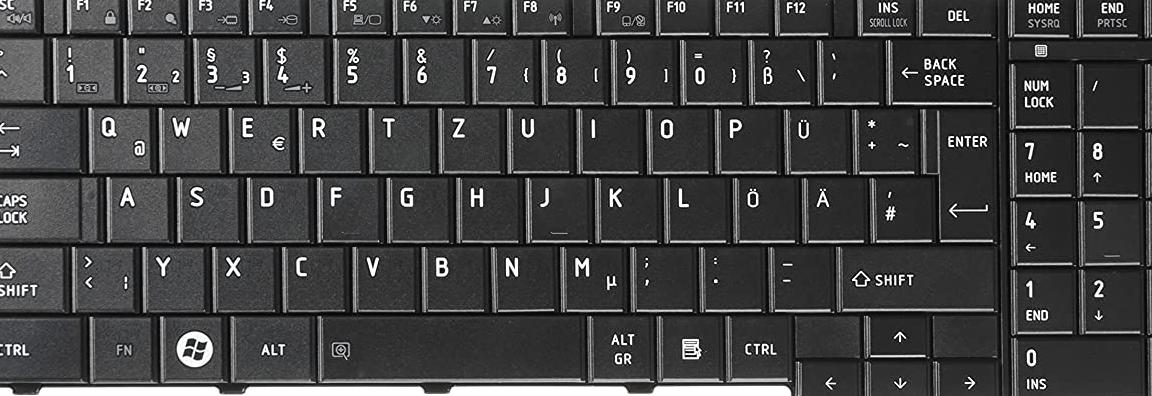0: (678, 32, 743, 102)
1: (49, 33, 115, 103)
2: (120, 33, 186, 104)
3: (190, 33, 256, 103)
4: (260, 34, 325, 104)
5: (330, 34, 395, 102)
6: (399, 32, 464, 102)
7: (470, 32, 535, 102)
8: (539, 33, 604, 103)
9: (609, 32, 674, 103)
a: (102, 171, 168, 241)
accent: (816, 32, 879, 100)
ae: (799, 169, 864, 240)
alt-left: (226, 309, 312, 380)
altgr-right: (585, 308, 654, 379)
b: (416, 239, 485, 310)
c: (277, 240, 345, 310)
caret: (1, 32, 42, 100)
comma: (628, 239, 692, 308)
d: (242, 170, 308, 240)
del: (885, 32, 995, 102)
e: (223, 101, 291, 173)
enter: (922, 107, 1000, 240)
f: (313, 170, 378, 240)
g: (381, 169, 446, 240)
h: (452, 170, 517, 240)
hash: (867, 170, 931, 239)
i: (573, 101, 638, 170)
j: (523, 170, 587, 240)
k: (592, 169, 656, 240)
keyboard: (1, 1, 1152, 396)
l: (662, 170, 725, 240)
less: (67, 240, 133, 310)
m: (556, 239, 623, 309)
minus: (764, 240, 829, 307)
n: (488, 239, 552, 309)
o: (642, 101, 707, 171)
oe: (730, 170, 794, 240)
p: (710, 101, 776, 170)
plus: (849, 101, 917, 170)
point: (697, 240, 760, 307)
q: (81, 101, 152, 172)
r: (294, 101, 360, 172)
s: (172, 171, 238, 241)
shift-left: (1, 241, 63, 312)
shift-lock: (1, 172, 96, 240)
shift-right: (833, 237, 994, 308)
space: (318, 309, 580, 379)
ss: (746, 32, 810, 101)
strg-left: (1, 312, 81, 380)
strg-right: (723, 308, 788, 378)
t: (364, 101, 429, 170)
tab: (1, 101, 79, 170)
u: (503, 101, 567, 171)
ue: (779, 100, 846, 172)
v: (348, 239, 414, 310)
w: (154, 101, 219, 172)
x: (207, 240, 274, 310)
y: (138, 241, 203, 310)
z: (434, 101, 500, 172)
